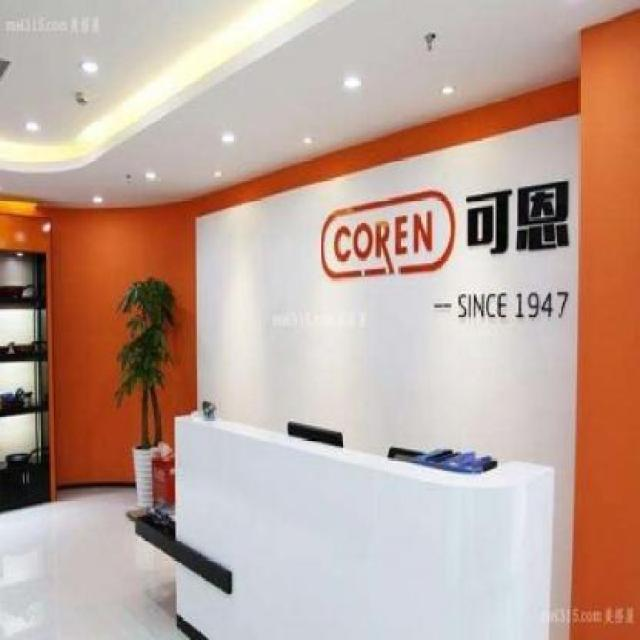frontdesk: (163, 389, 560, 640)
